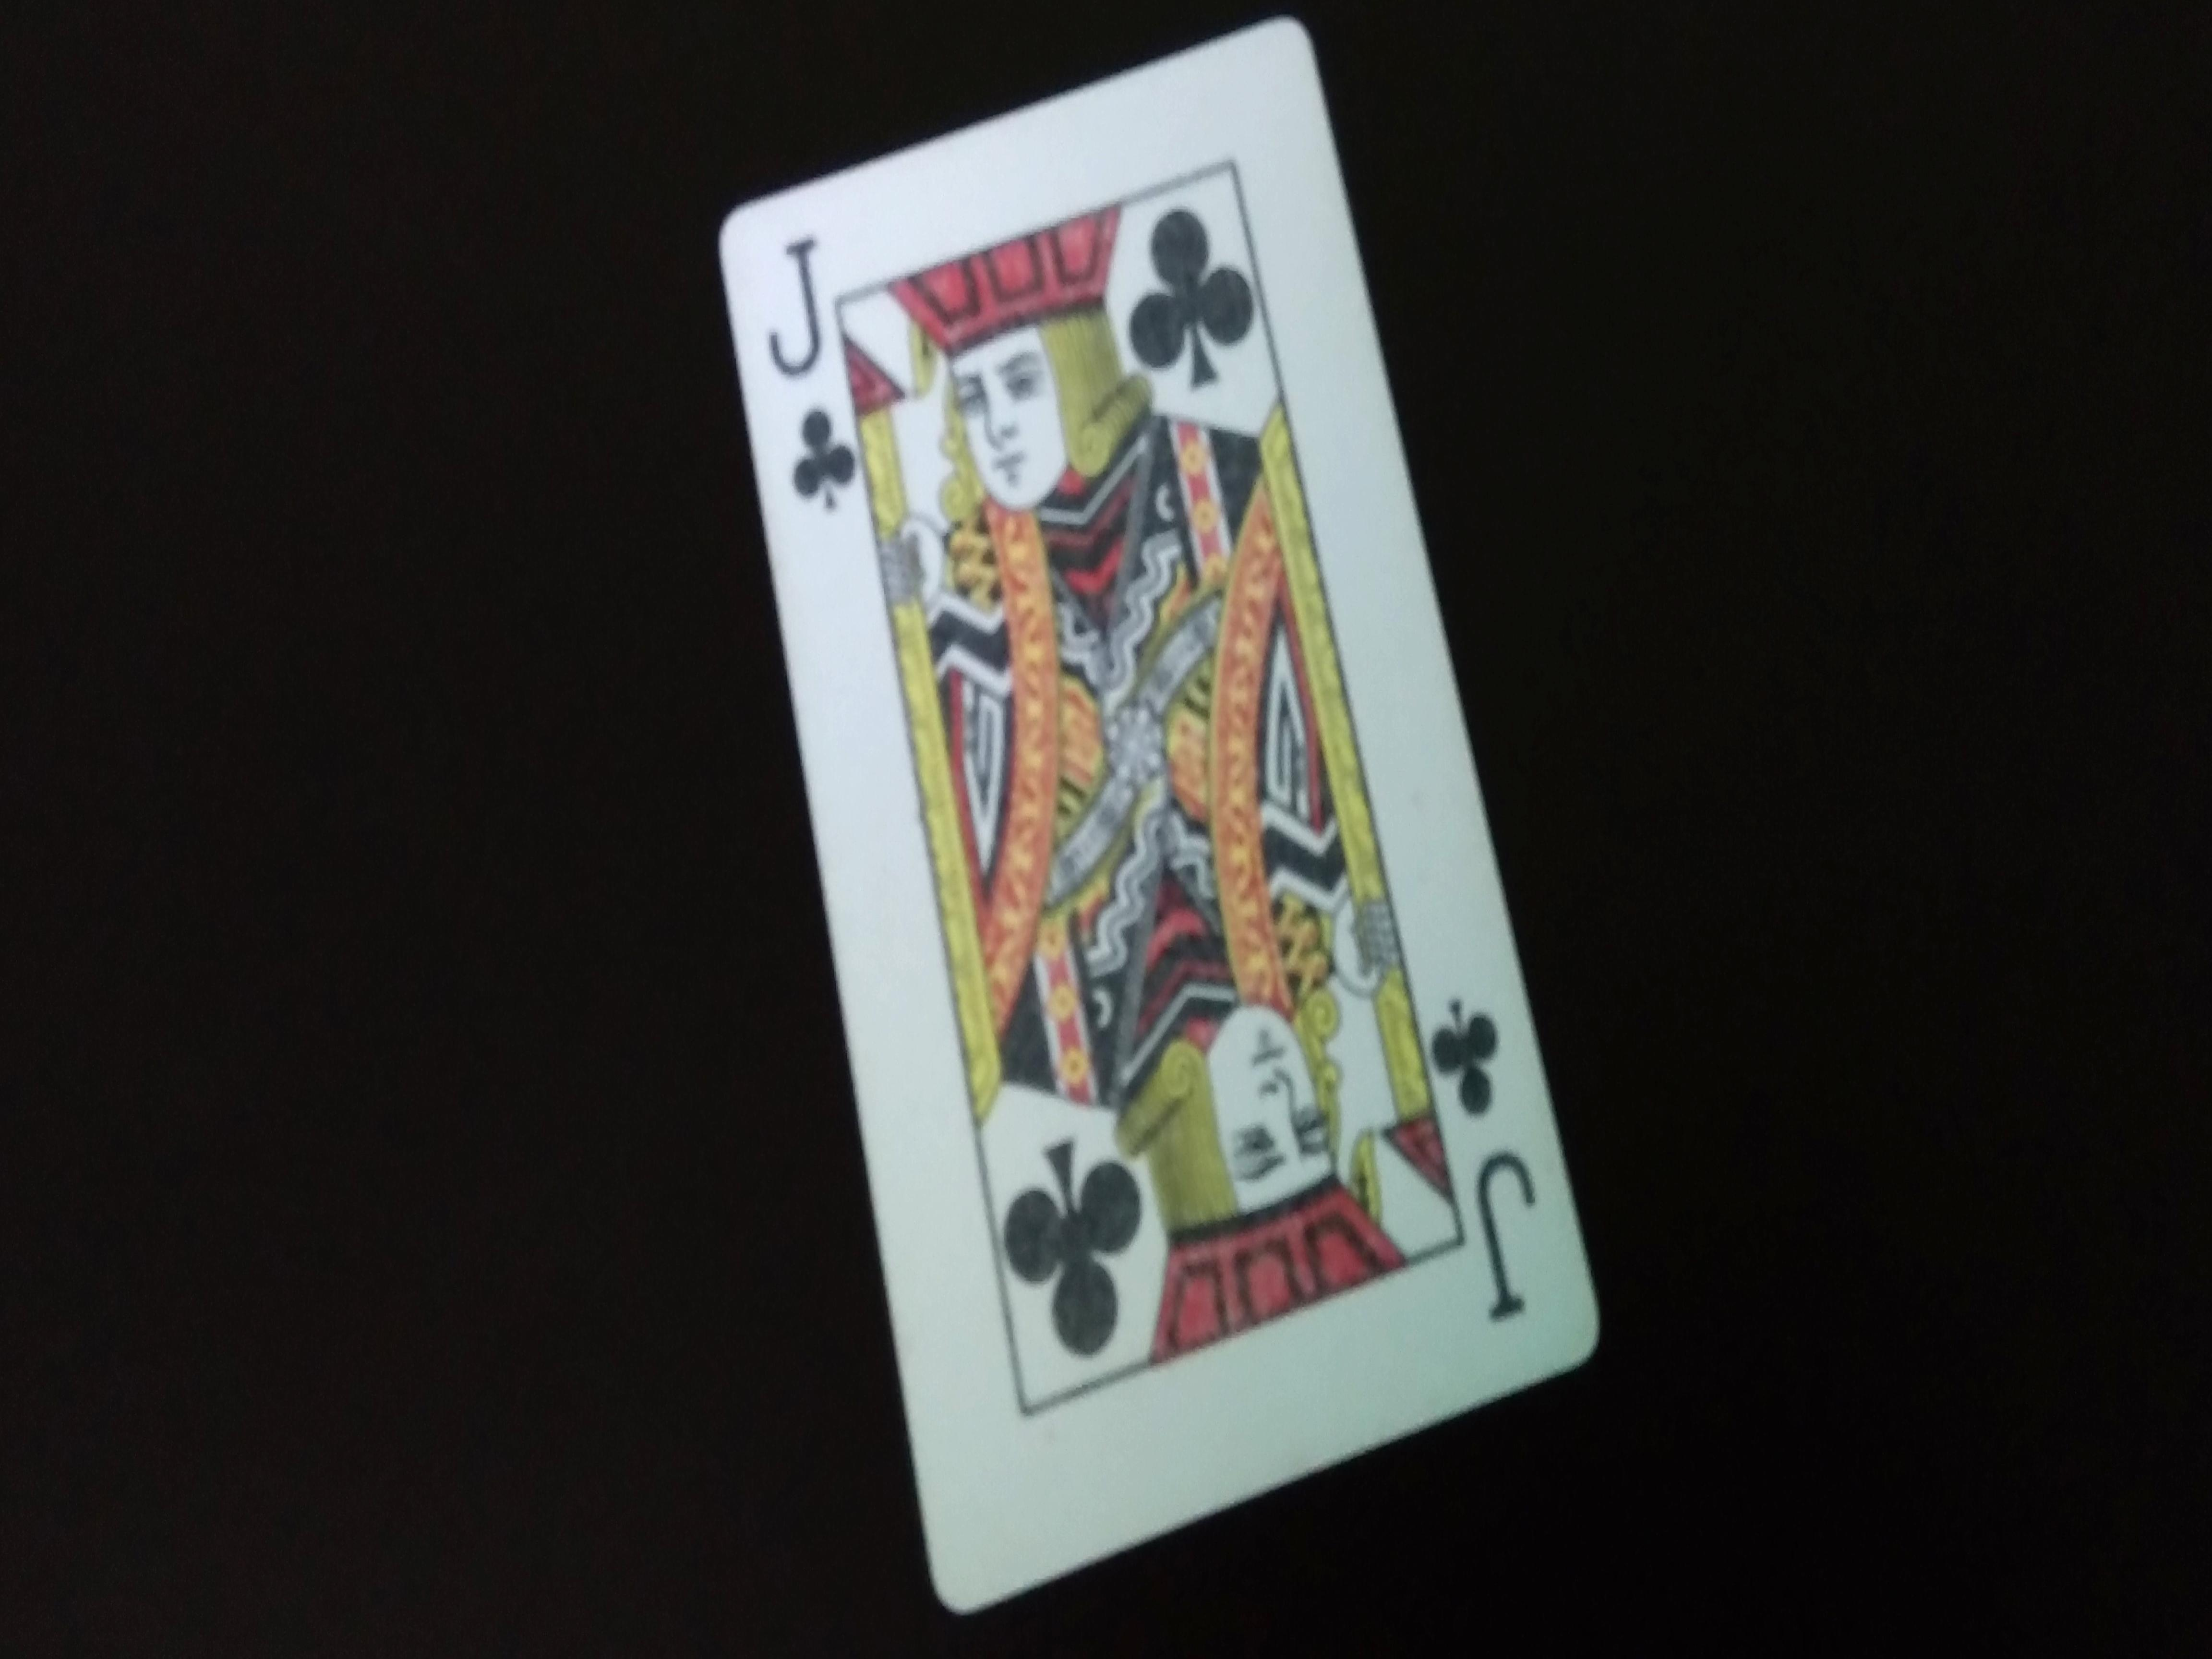JC: (770, 213, 845, 565)
